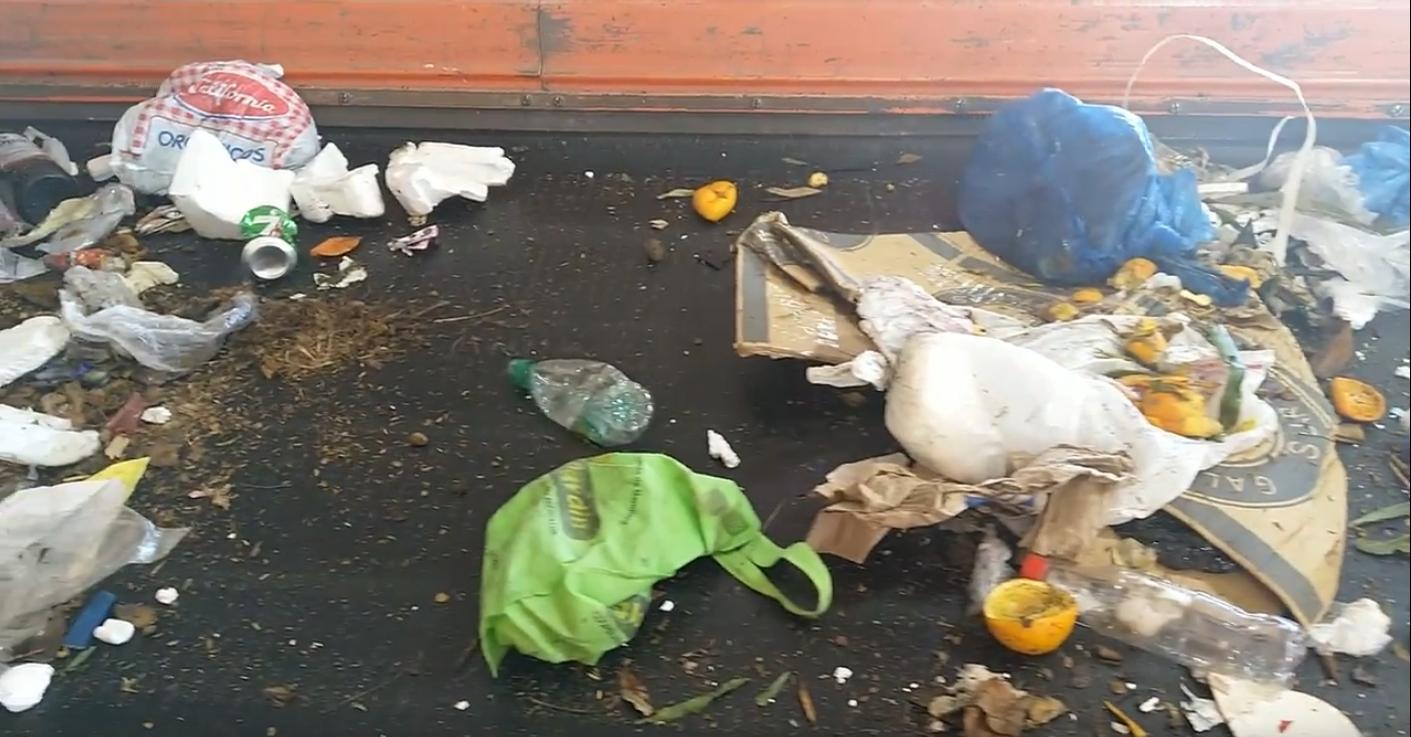bottle: (1069, 550, 1304, 692), (500, 340, 670, 458)
